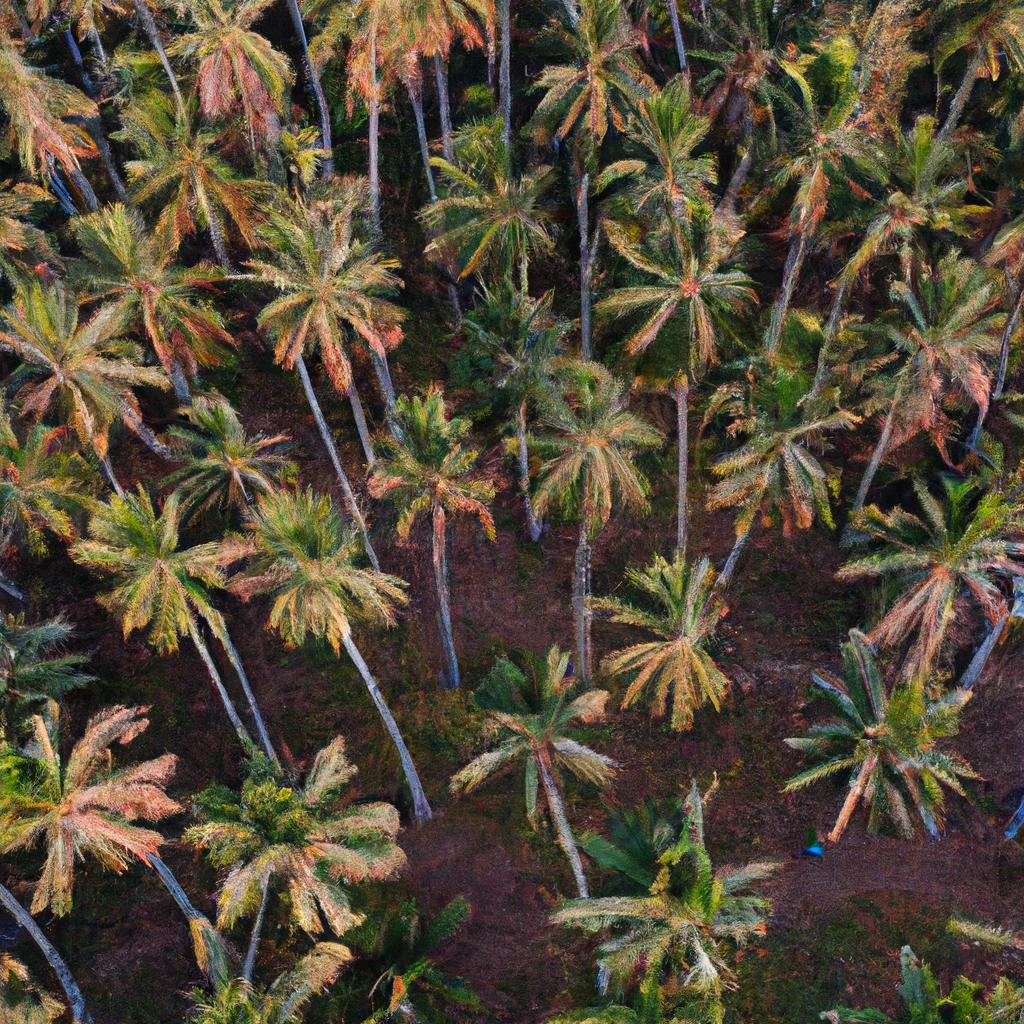coconut_tree: (165, 751, 411, 961), (426, 647, 634, 866), (0, 693, 196, 907), (213, 489, 427, 683), (569, 558, 756, 742), (243, 205, 418, 391), (516, 361, 694, 542), (5, 280, 162, 467), (62, 486, 226, 659), (602, 196, 764, 366), (867, 263, 1018, 440), (362, 394, 504, 562), (705, 374, 837, 542), (423, 126, 556, 288)
